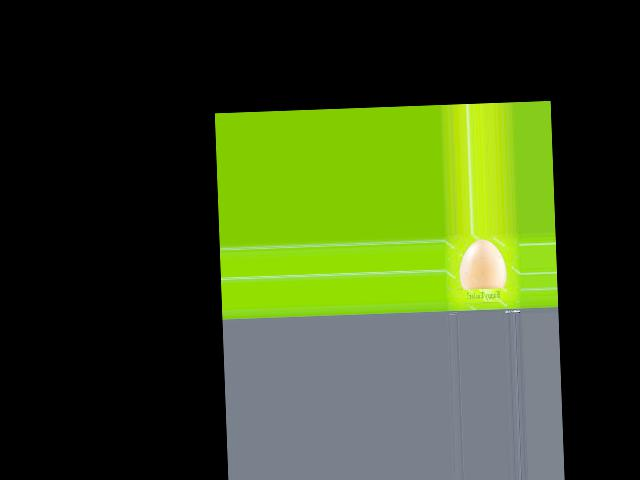egg: (458, 238, 506, 289)
